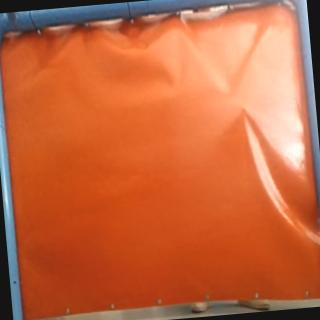Hit-hRxx: (237, 100, 250, 116)
